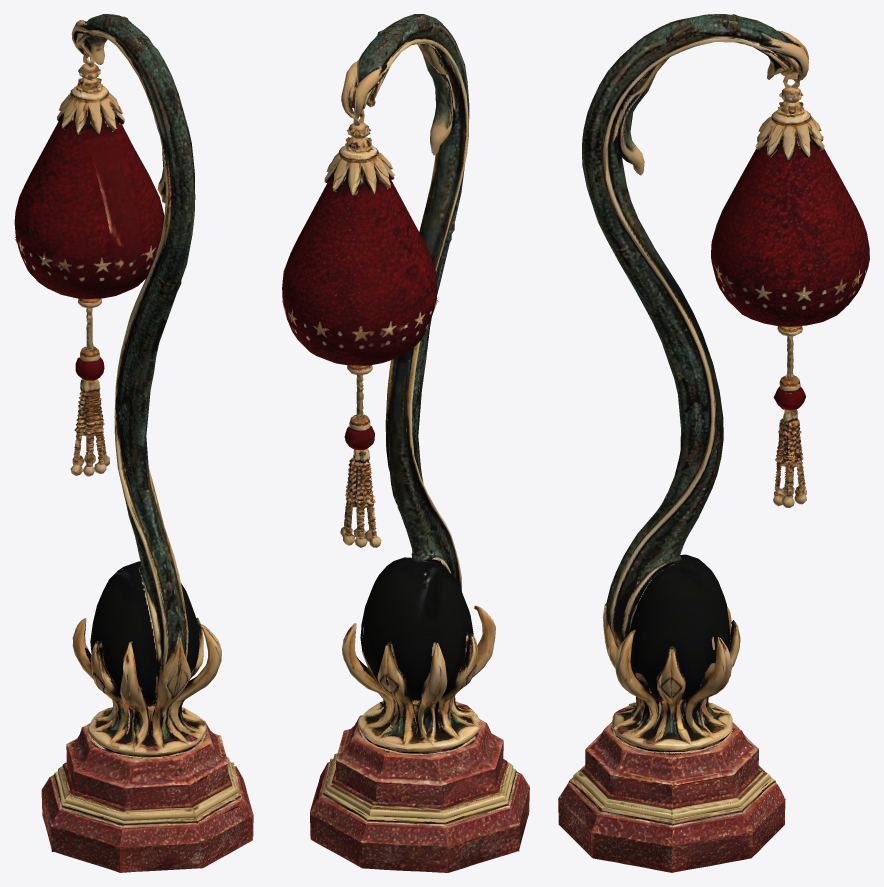
The model's file is NX-00_lamp_game.glb.
The picture shows the model from 3 angles, left to right: view 1: azimuth 30°, elevation 25°; view 2: azimuth 150°, elevation 25°; view 3: azimuth 270°, elevation 25°; orthographic projection. The views are drawn at different scales.
Parts seen in each view (by area): view 1: NX-00_lamp; view 2: NX-00_lamp; view 3: NX-00_lamp.
Part boxes in pixels (x1,y1,x2,y2): NX-00_lamp: (14, 14, 253, 872); NX-00_lamp: (282, 14, 529, 872); NX-00_lamp: (558, 14, 869, 872).
Bounding box in the file's own units: 0.1524 × 0.6 × 0.209.
Materials: 1 (1 with a texture image).
